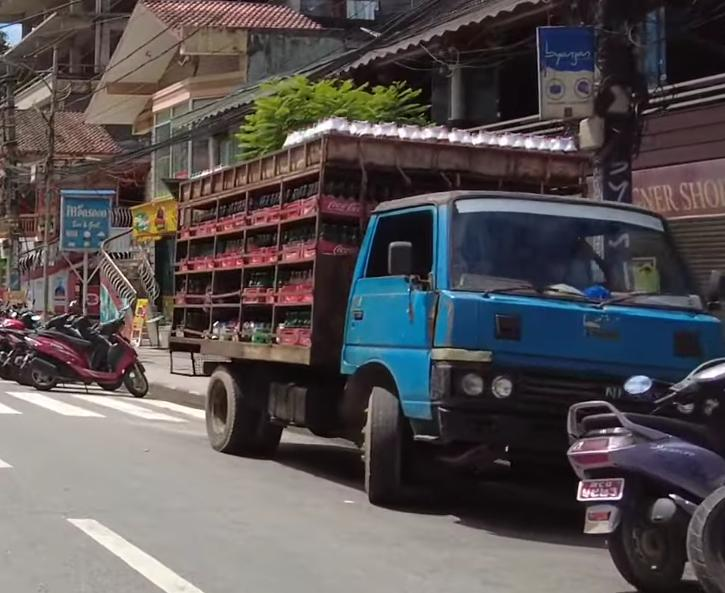mini_truck: (146, 116, 725, 511)
scooter: (555, 362, 725, 590), (15, 305, 154, 394)
